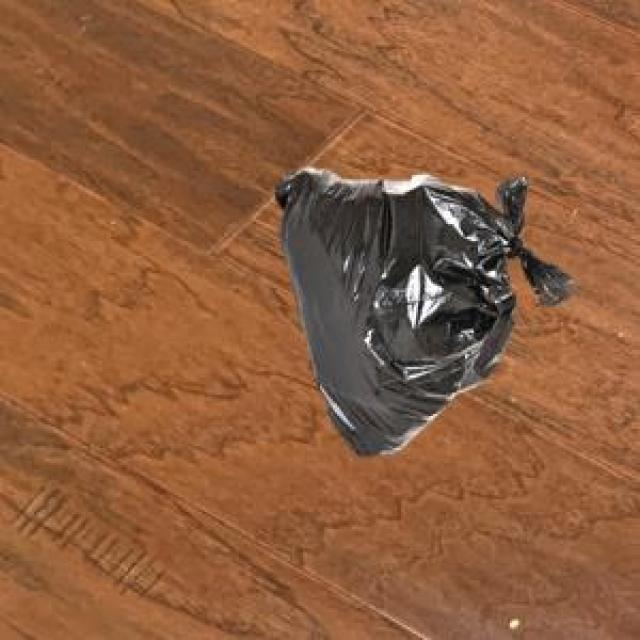Trashbag: (272, 156, 570, 460)
